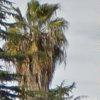Palm tree: (4, 4, 67, 100)
